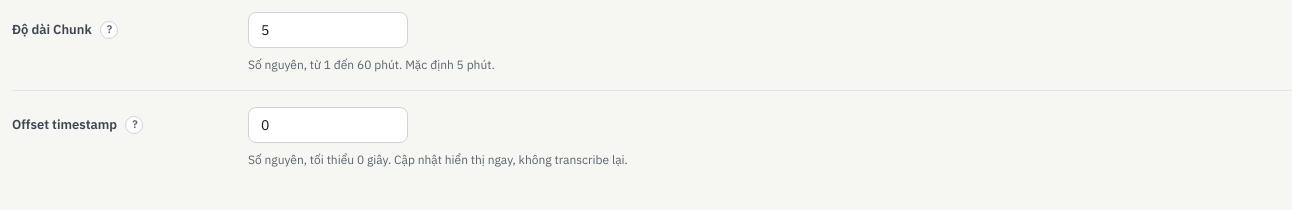
Test: SettingsChunking › blocks an invalid chunkMinutes value (0) inline without saving
Replace the text in the field labelled "Độ dài Chunk" with "0". click: {"x": 328, "y": 30}
box: [248,12,408,48]
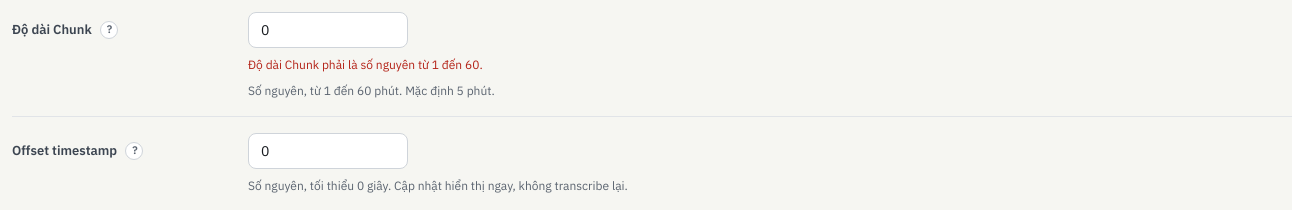
Check: the message "Độ dài Chunk phải là số nguyên từ 1 đến 60." is shown, box [248,57,483,72]
